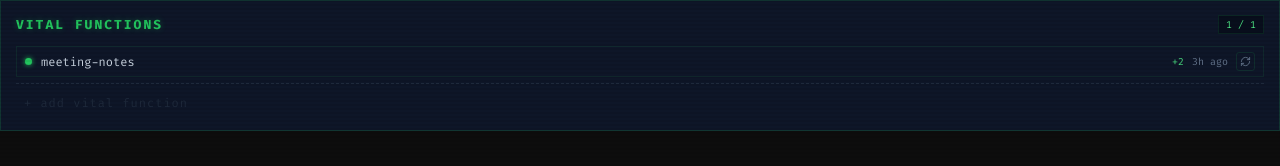
clicking sync triggers the run and shows a synced status line
The width and height of the screenshot is (1280, 166).
Click the button named "sync meeting-notes" at [1246, 62], box [1236, 52, 1255, 71]
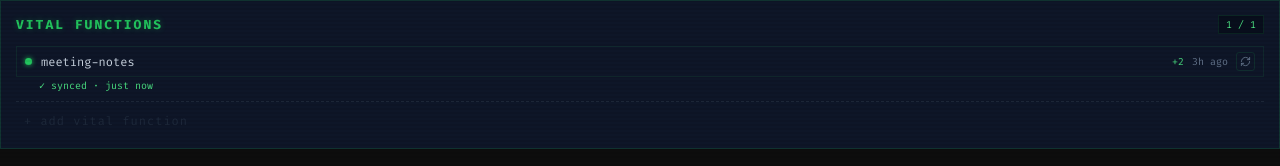
Expected: the text "✓ synced · just now" is shown, [39, 79, 153, 92]
